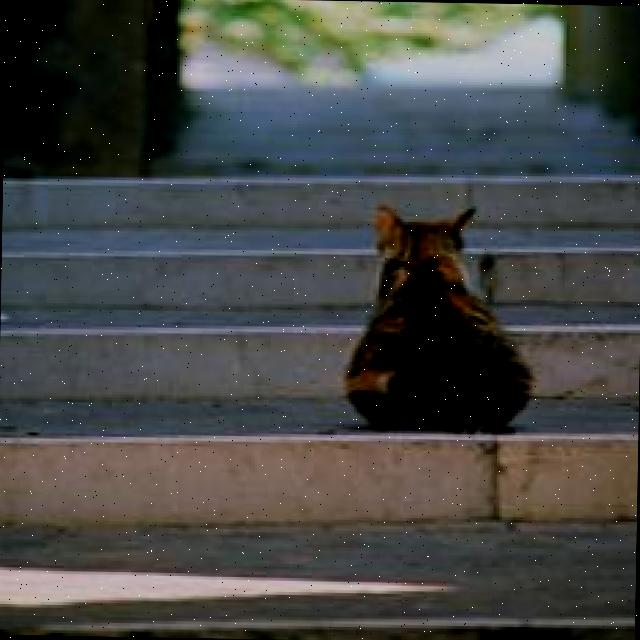stairs: (0, 55, 631, 640)
